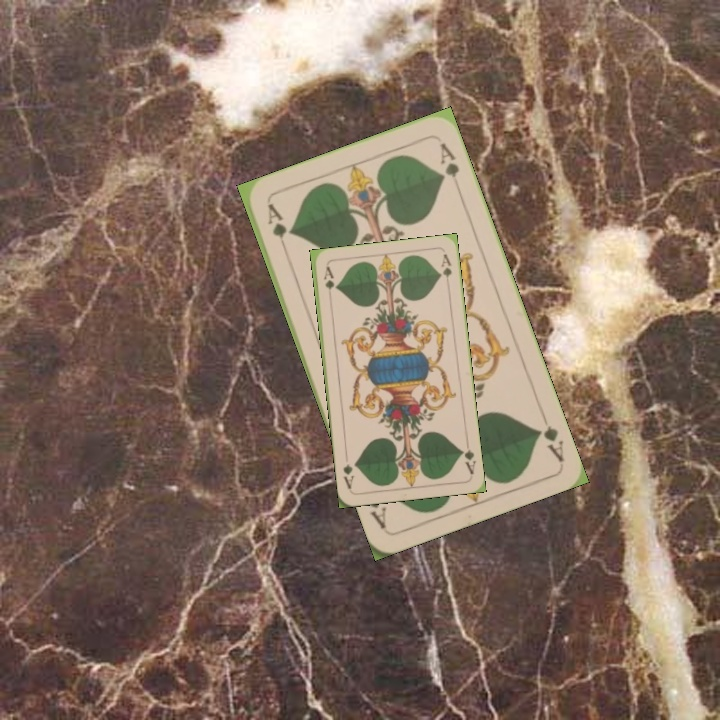GA: (532, 408, 567, 465), (263, 199, 291, 257), (457, 437, 478, 477), (320, 263, 336, 303)
